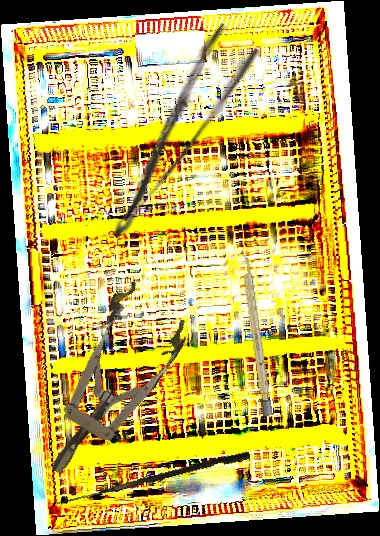Dressing Forceps: (79, 21, 264, 243)
Hook Surgical: (55, 447, 251, 514)
Scalpel Handle: (240, 253, 273, 417)
Speculum: (18, 276, 198, 494)
